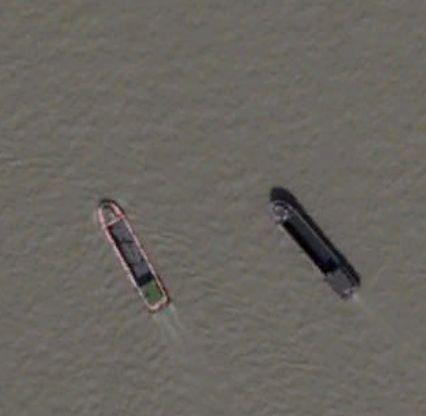Boat: (241, 174, 371, 313), (84, 182, 184, 344)
